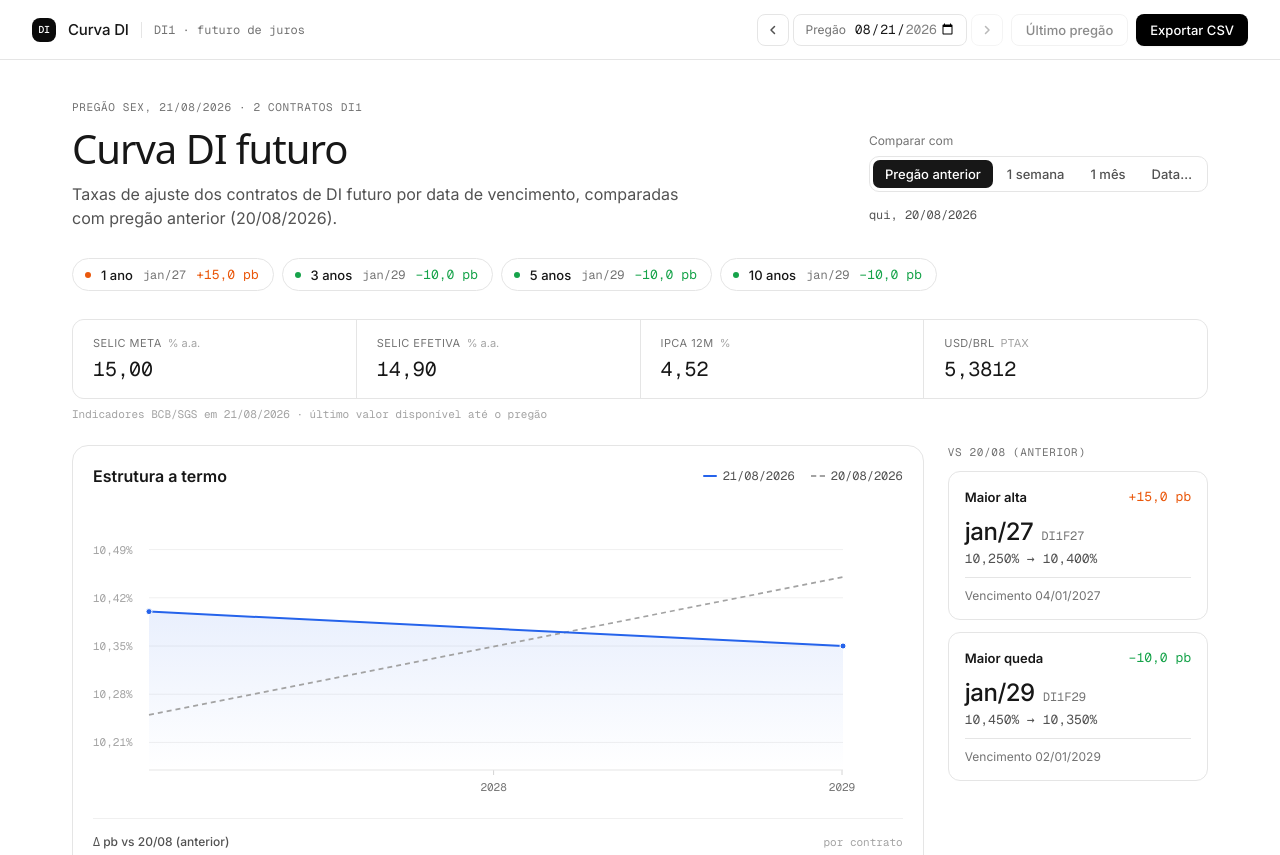
Scenario: App › data específica: max = pregão anterior e snap nunca ≥ pregão atual
Click the button "Data…" at (1172, 174), box top-left (1140, 160), bottom-right (1204, 188)
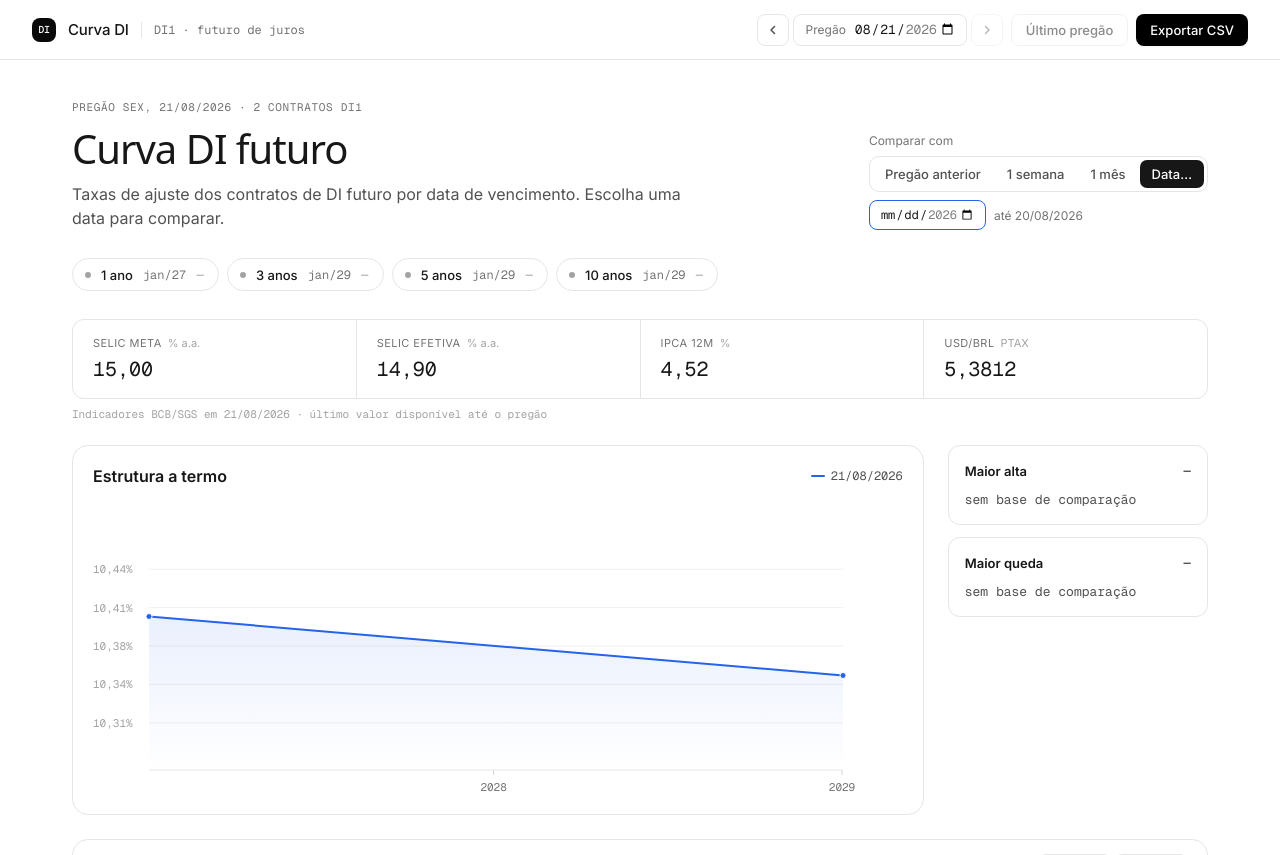
// data futura/igual ao pregão cai no pregão anterior, com aviso
Type "2026-08-21" into the date field named "Data de comparação" at (927, 215), box top-left (880, 206), bottom-right (975, 224)
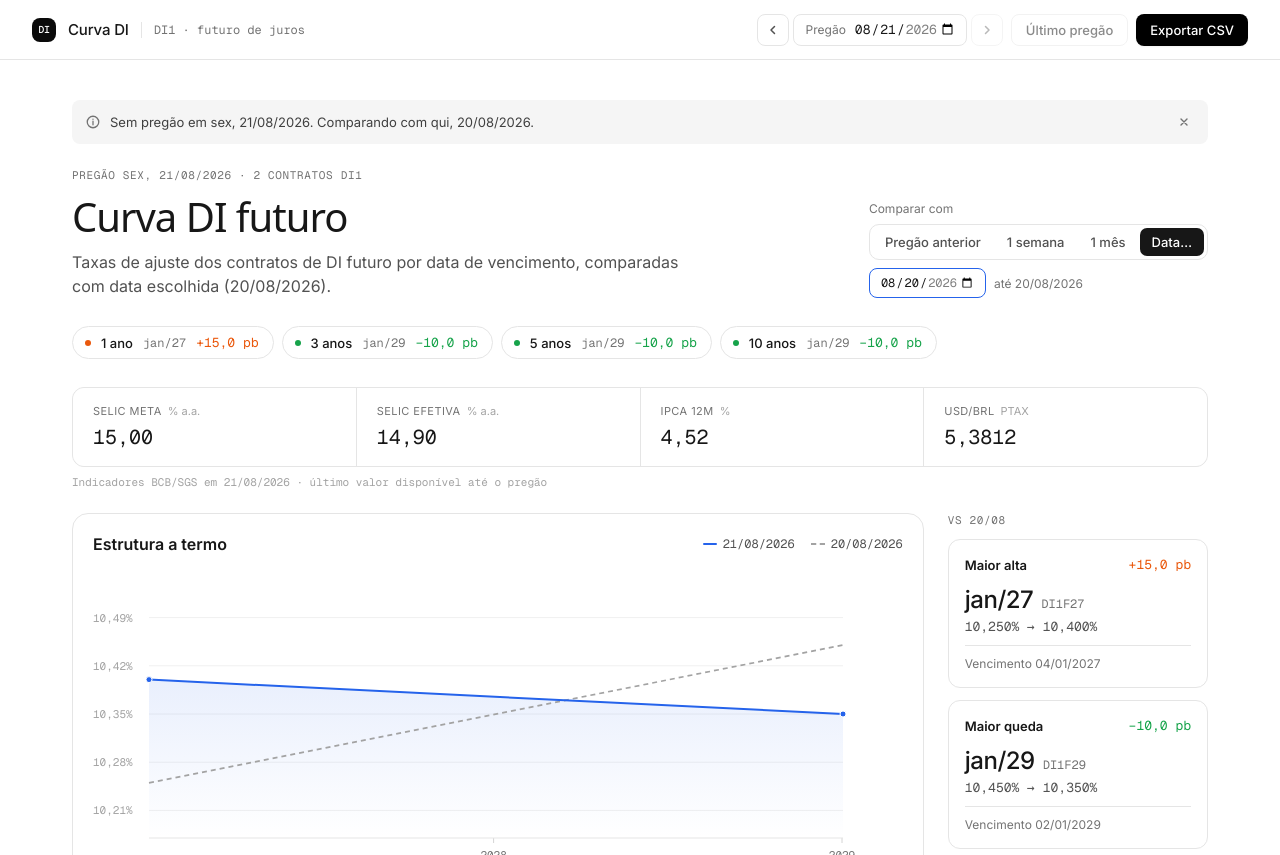
Result: the date field named "Data de comparação" holds "2026-08-20" at top-left (880, 274), bottom-right (975, 292)
Result: the message with test id "notice" shows "Comparando com qui, 20/08/2026" at top-left (110, 114), bottom-right (534, 130)
